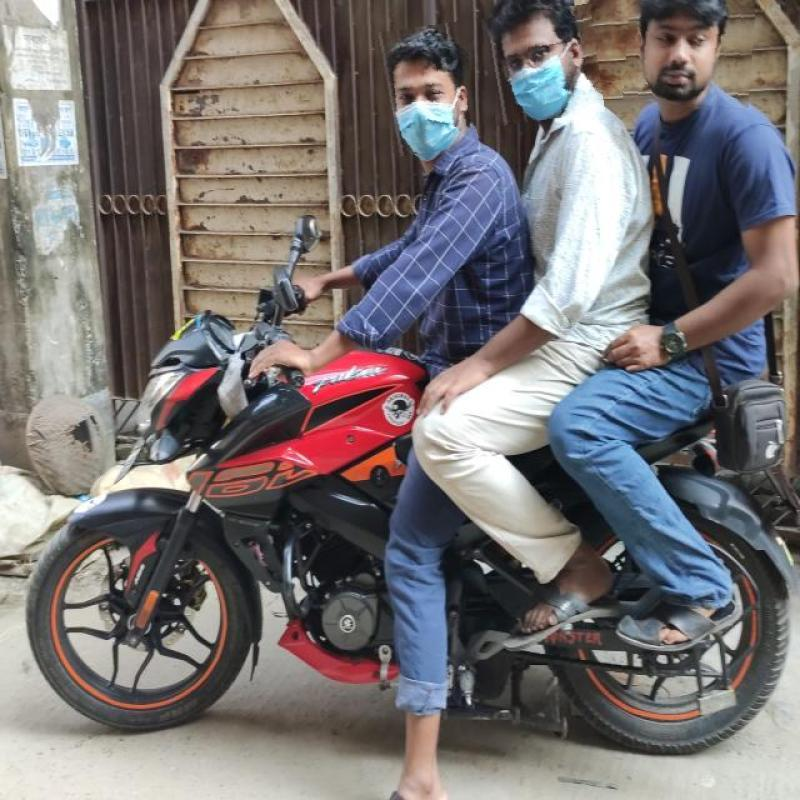nohelmet: (485, 7, 601, 123), (625, 2, 754, 106), (381, 24, 475, 155)
